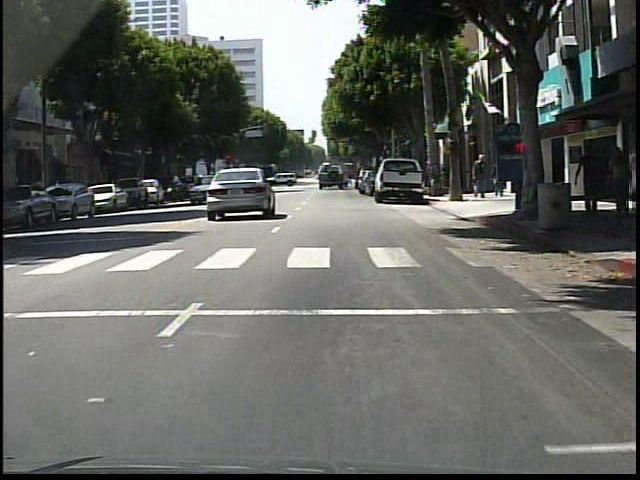person: (573, 147, 605, 217), (602, 149, 633, 219), (472, 152, 489, 198), (255, 162, 272, 202)
